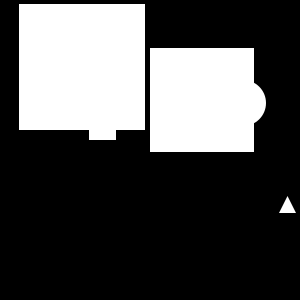circle: (19, 4, 145, 130), (150, 48, 254, 152), (89, 113, 116, 140)
rectangle: (220, 80, 266, 126)
triangle: (279, 196, 296, 213)
